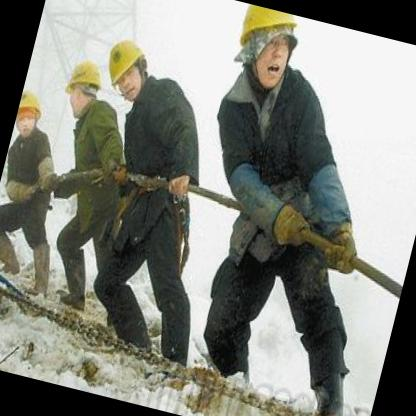helmet: (216, 1, 307, 112), (94, 28, 159, 109), (58, 53, 110, 122), (11, 83, 51, 143)
